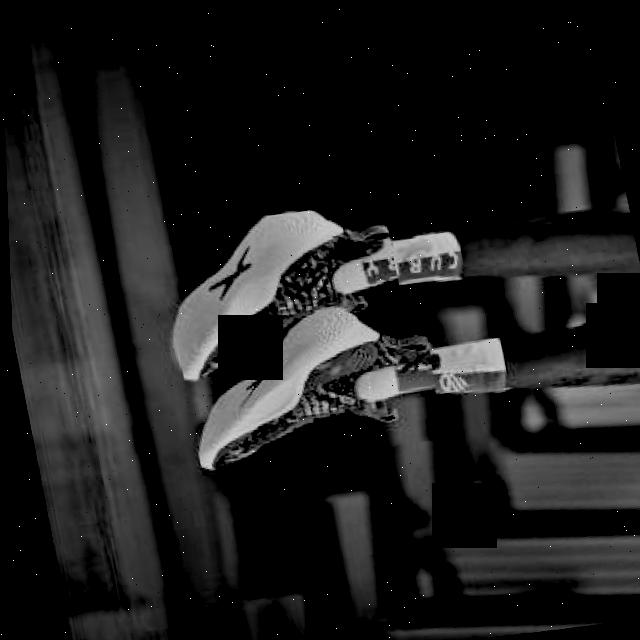shoe: (140, 192, 411, 390), (171, 290, 448, 480)
